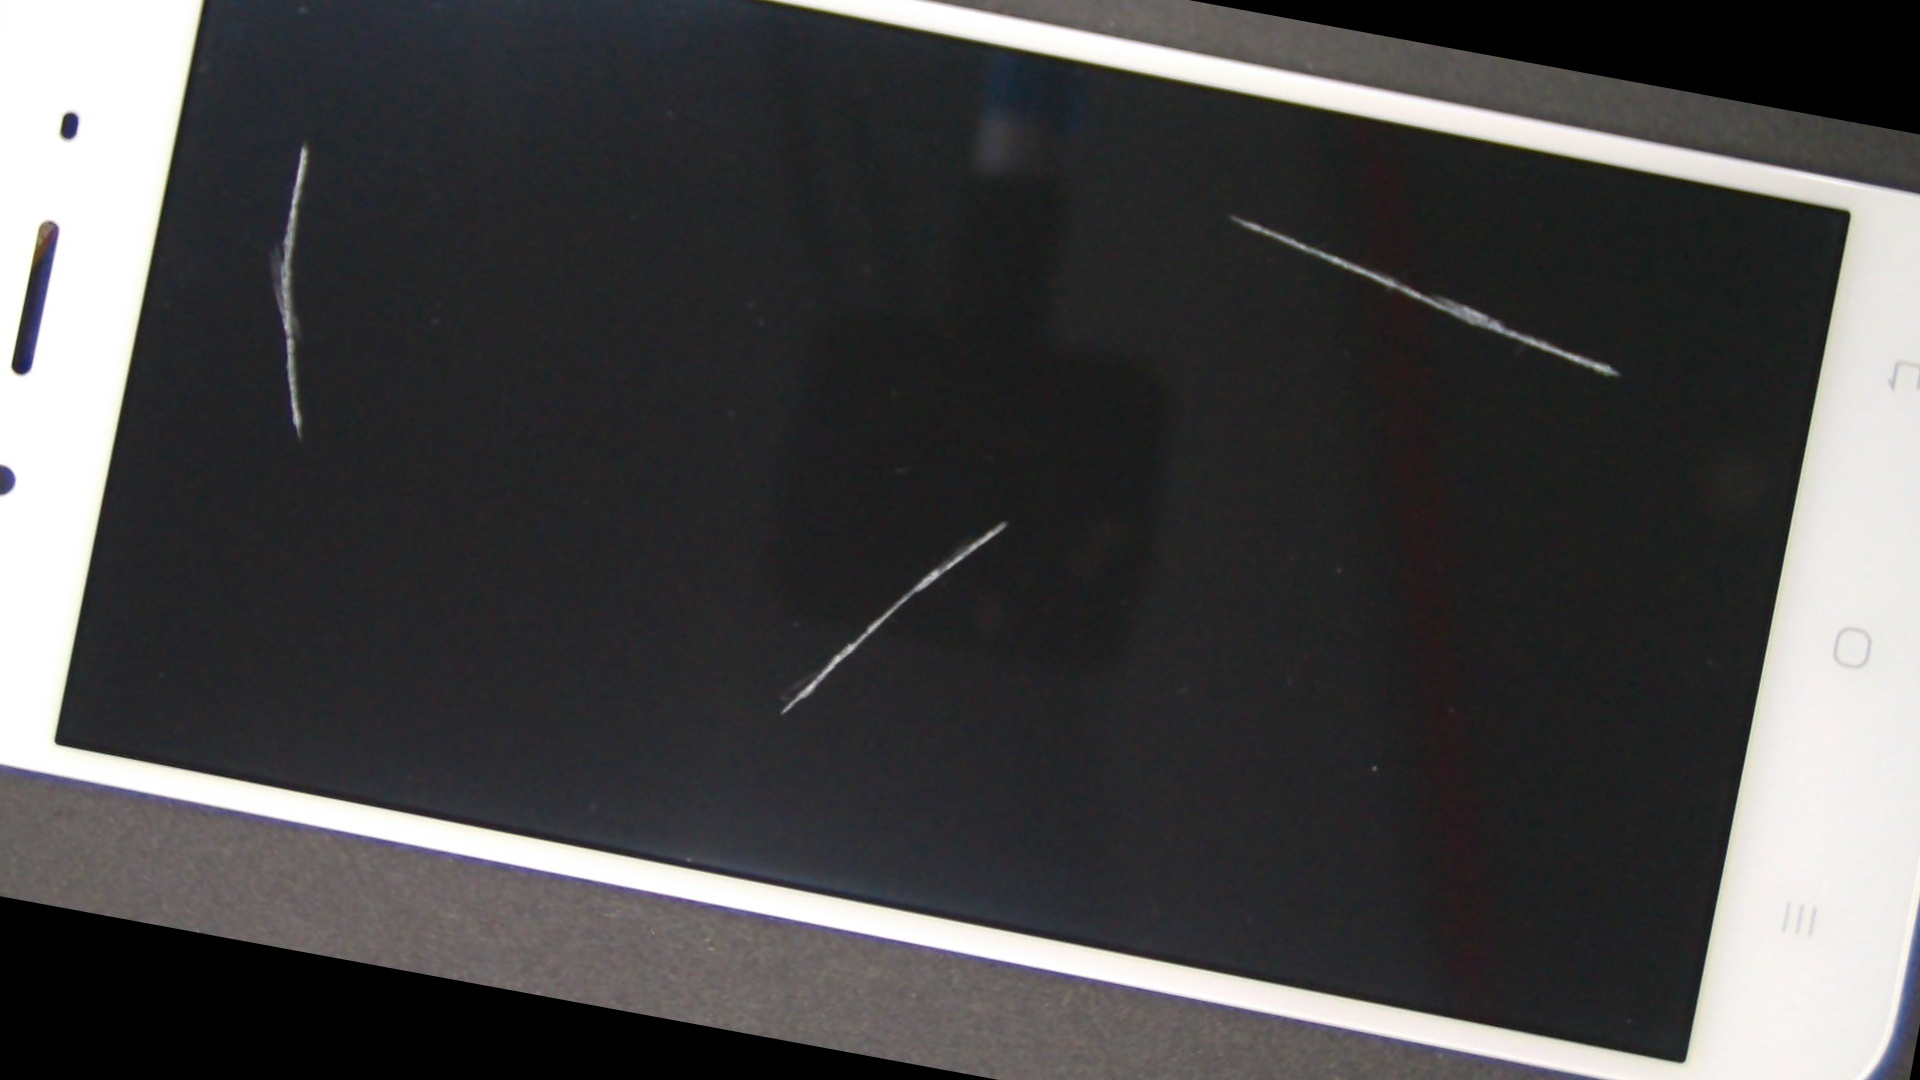oil: (410, 152, 1594, 889), (588, 0, 1879, 429), (107, 0, 504, 326)
